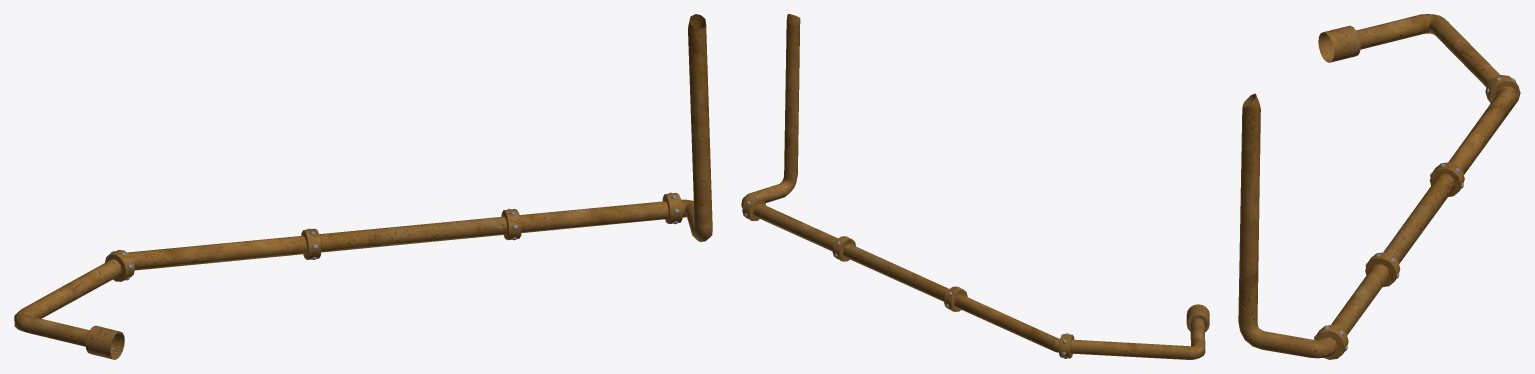
3 views of the same model, side by side, from view 1: azimuth 30°, elevation 25°; view 2: azimuth 150°, elevation 25°; view 3: azimuth 270°, elevation 25° (orthographic). The views are drawn at different scales.
Parts seen in each view (by area): view 1: SM_Pylon_Connector_LOD0; view 2: SM_Pylon_Connector_LOD0; view 3: SM_Pylon_Connector_LOD0.
Part boxes in pixels (<box>): SM_Pylon_Connector_LOD0: <box>14,14,712,359</box>; SM_Pylon_Connector_LOD0: <box>741,14,1209,359</box>; SM_Pylon_Connector_LOD0: <box>1238,14,1520,359</box>.
Size of the model in its own units: 4.32 by 1.55 by 1.55.
2 materials, 2 textured.
